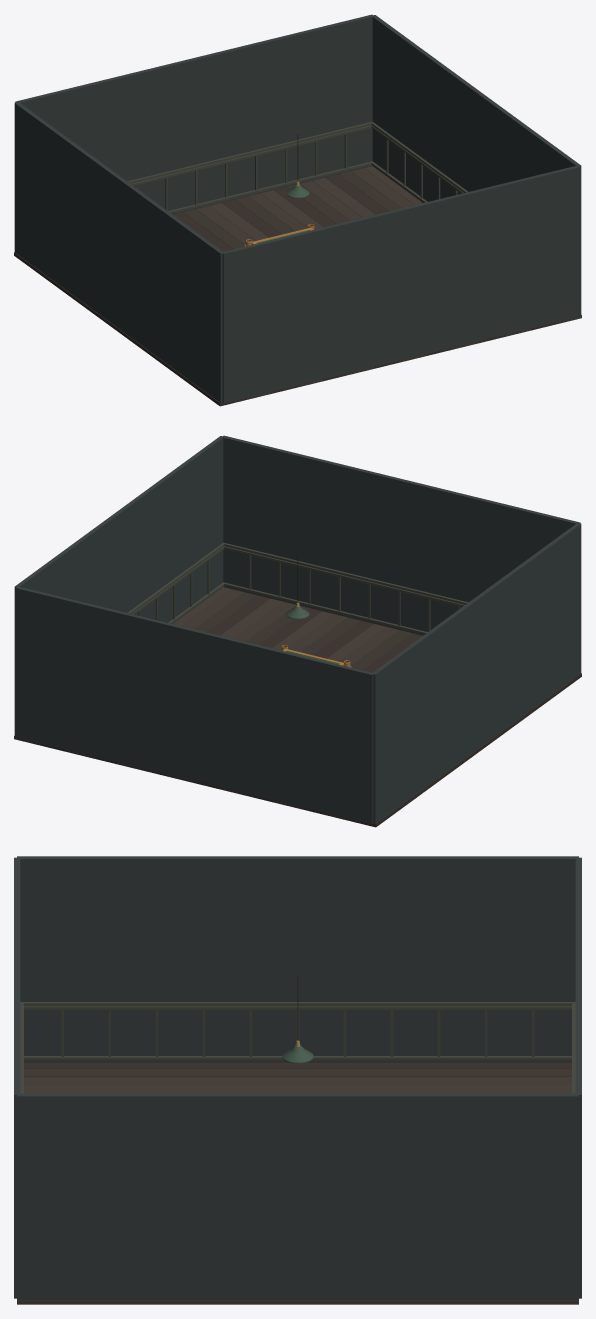
File: room.glb
The picture shows the model from 3 angles, top to bottom: view 1: azimuth 30°, elevation 25°; view 2: azimuth 150°, elevation 25°; view 3: azimuth 270°, elevation 25°; orthographic projection. The views are drawn at different scales.
Parts seen in each view (by area): view 1: Room; view 2: Room; view 3: Room, Pendant.
Part boxes in pixels (x1,y1,x2,y2): Room: (14,14,581,406); Room: (14,435,581,827); Room: (14,856,581,1304); Pendant: (282,976,313,1063).
Bounding box in the file's own units: 8.12 × 3.27 × 8.09.
Materials: 17 (5 with a texture image).
